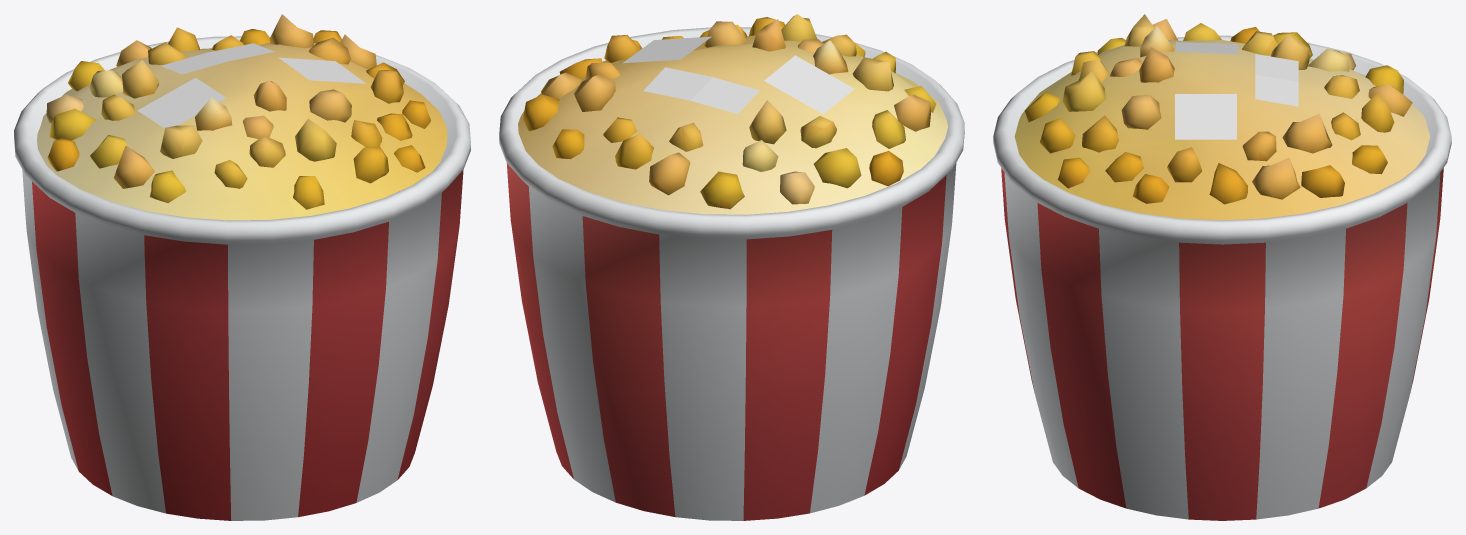
The model's file is popcorn_smile.fbx.
3 views of the same model, side by side, from view 1: azimuth 30°, elevation 25°; view 2: azimuth 150°, elevation 25°; view 3: azimuth 270°, elevation 25° (orthographic).
Parts seen in each view (by area): view 1: popcorn_smile; view 2: popcorn_smile; view 3: popcorn_smile.
Part boxes in pixels (left/top/right/bottom): popcorn_smile: left=14, top=14, right=470, bottom=520; popcorn_smile: left=499, top=14, right=964, bottom=520; popcorn_smile: left=993, top=14, right=1451, bottom=520.
Size of the model in its own units: 155 by 148 by 155.
2 materials, 1 textured.
